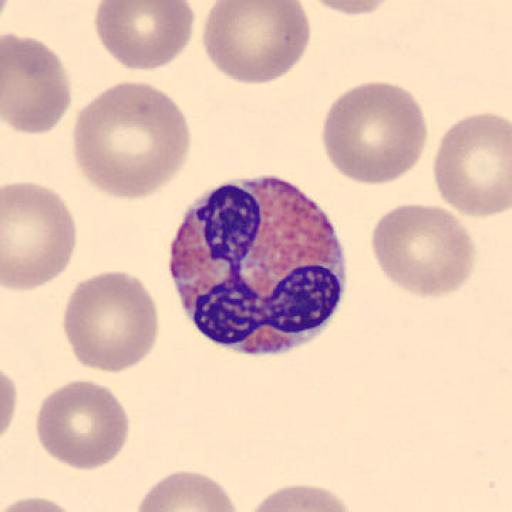RBC: (70, 79, 193, 202), (320, 79, 430, 188), (61, 268, 161, 374), (370, 201, 476, 300), (200, 0, 312, 86), (35, 378, 130, 474), (432, 110, 512, 219), (2, 180, 78, 293), (93, 0, 196, 72), (2, 31, 72, 135), (134, 468, 240, 512), (244, 482, 355, 512), (304, 0, 396, 18), (0, 493, 85, 512), (1, 365, 19, 440)
WBC: (166, 174, 348, 358)
